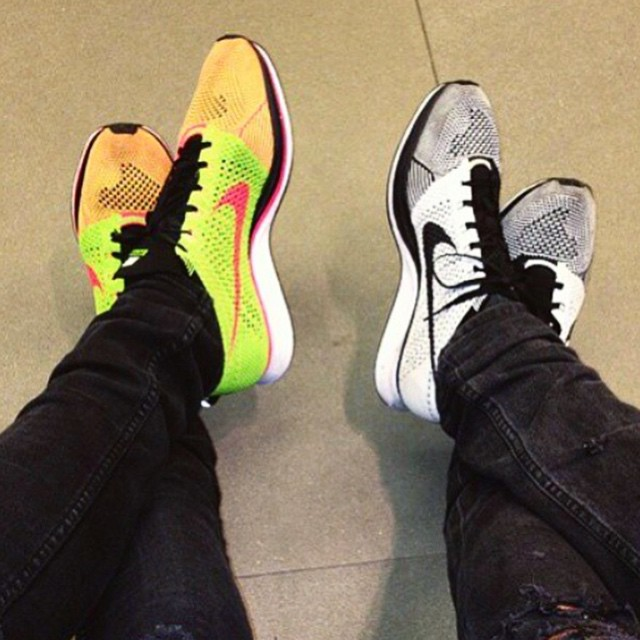sneaker: (106, 22, 321, 424), (361, 73, 534, 426), (58, 104, 190, 340), (491, 153, 612, 373)
